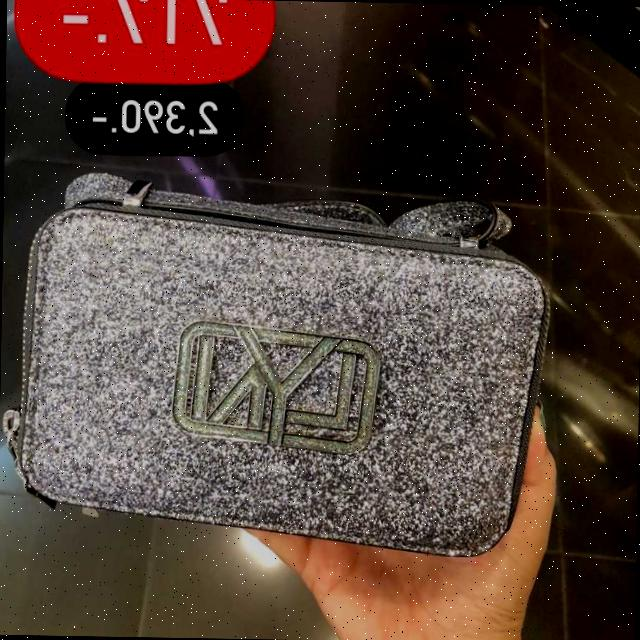Handbag: (11, 167, 554, 560)
